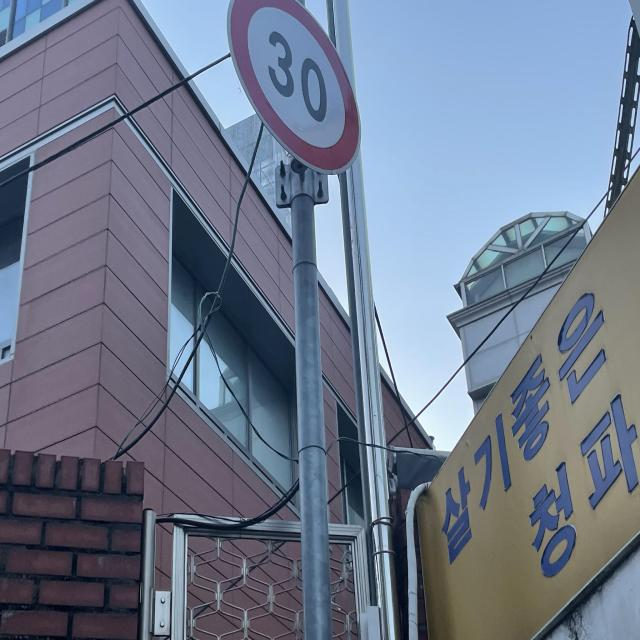speed_limit_30: (228, 3, 358, 168)
